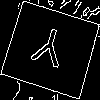Y: (26, 24, 70, 78)
